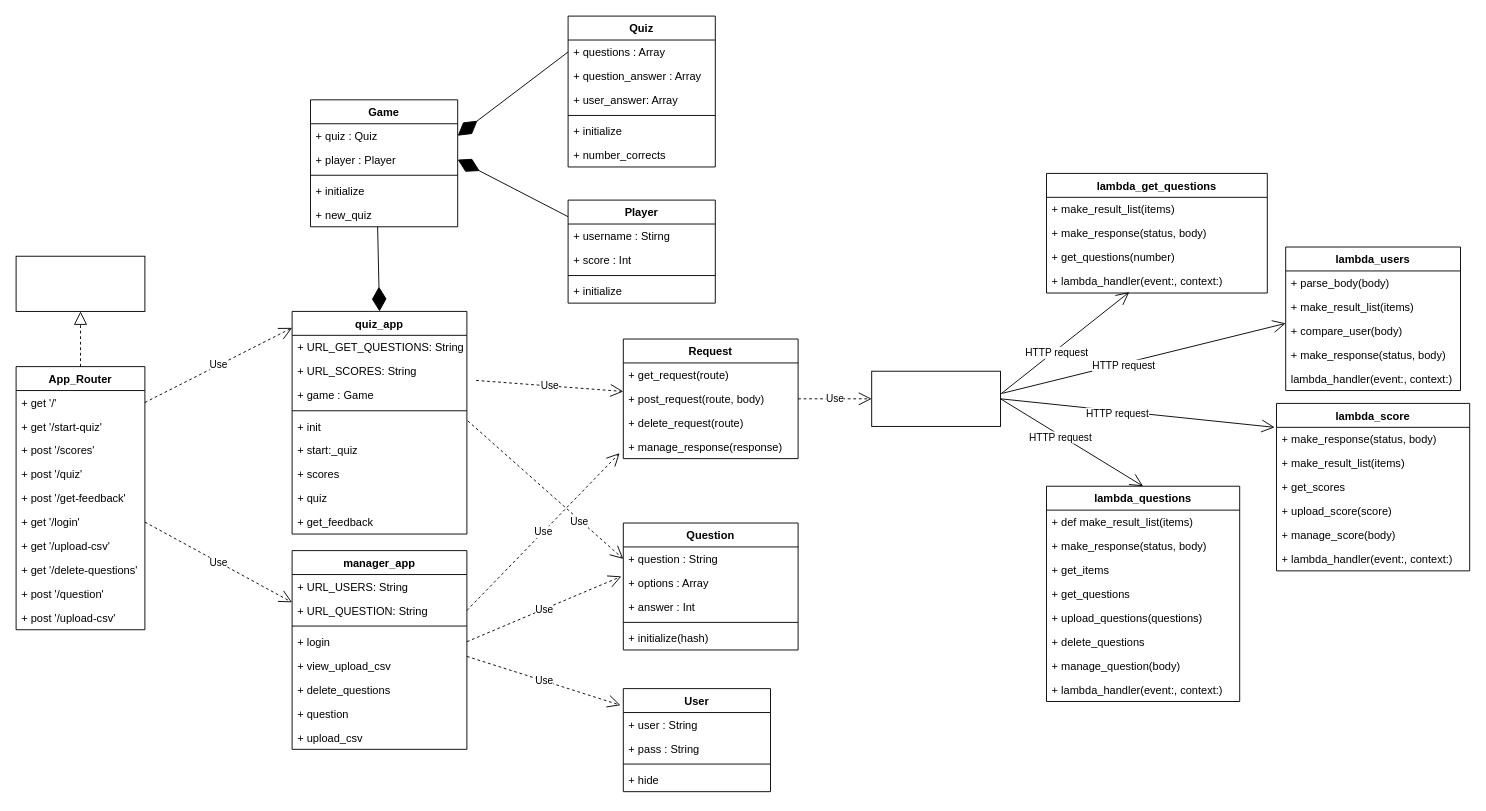
The diagram is 1486 pixels wide and 811 high, and some of its shapes have lost their labels. The shapes that lost their labels are listed below. From the top down, each one's centre as x and y in pixels, then its label:
the point at 80,283: Sinatra::Base
the point at 935,398: Faraday
